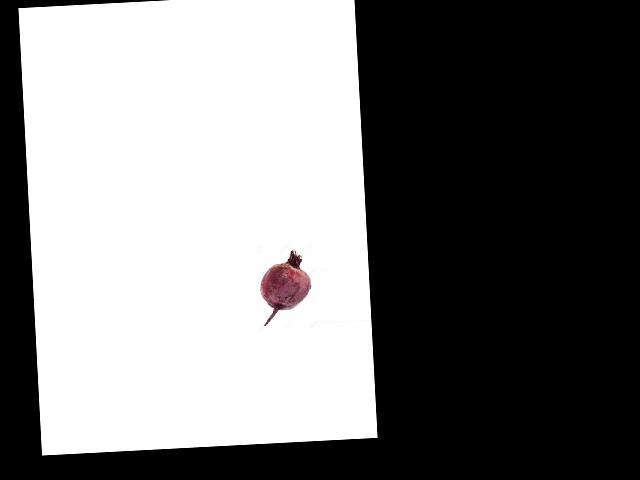beet: (258, 249, 312, 325)
